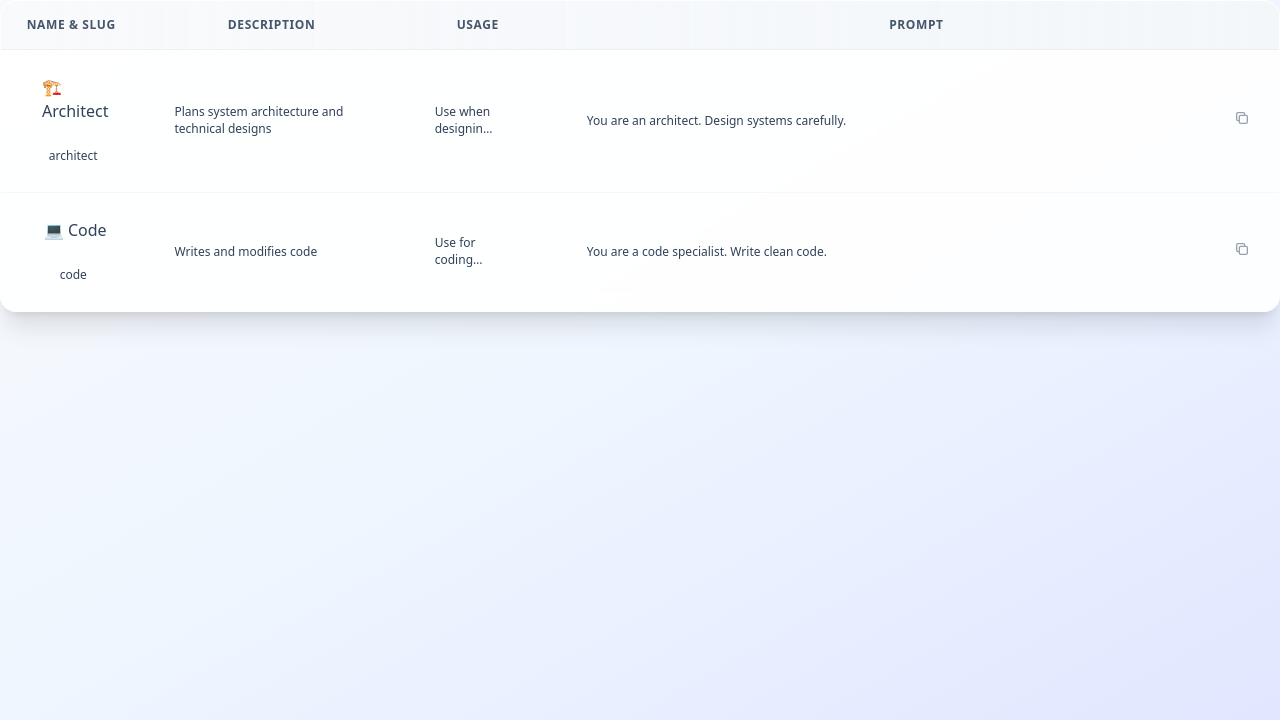
ModeTable Component › Inline Editing › enters edit mode when clicking a cell
This screenshot has width=1280, height=720.
Click the text "🏗️ Architect" at (75, 99), box [42, 75, 108, 123]
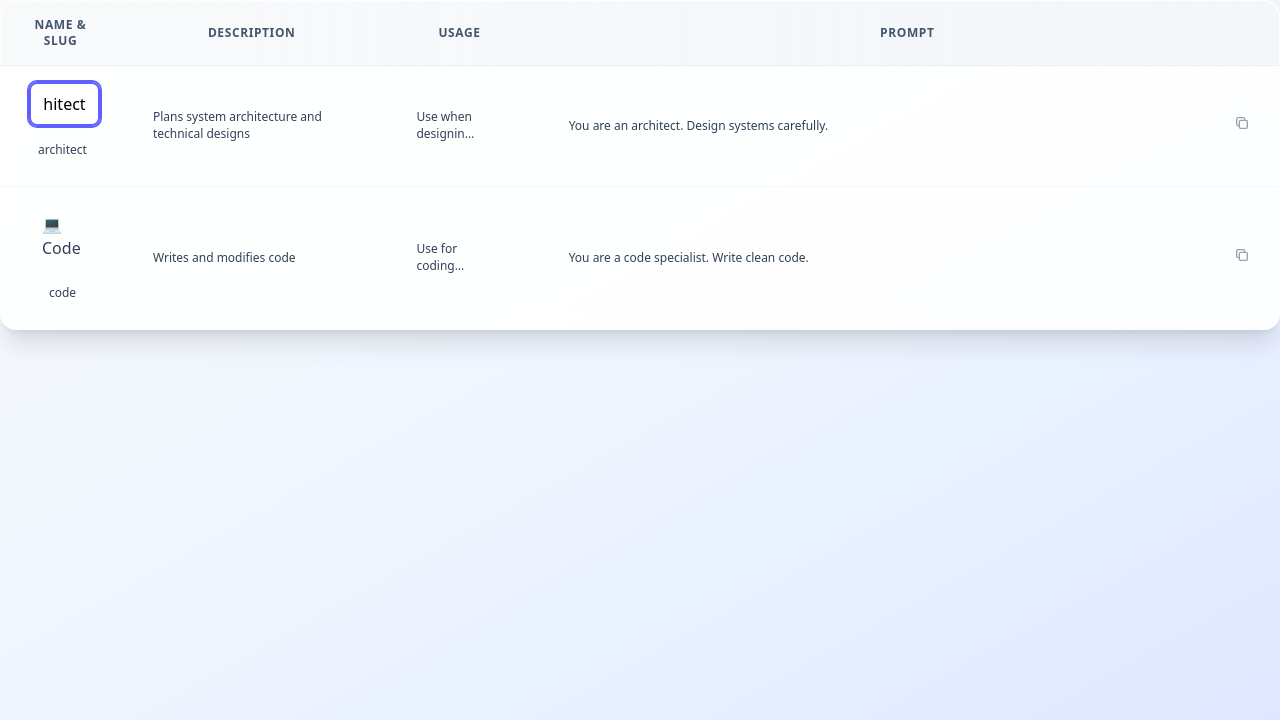
Check: the field showing "🏗️ Architect" is shown, box [29, 82, 100, 126]
